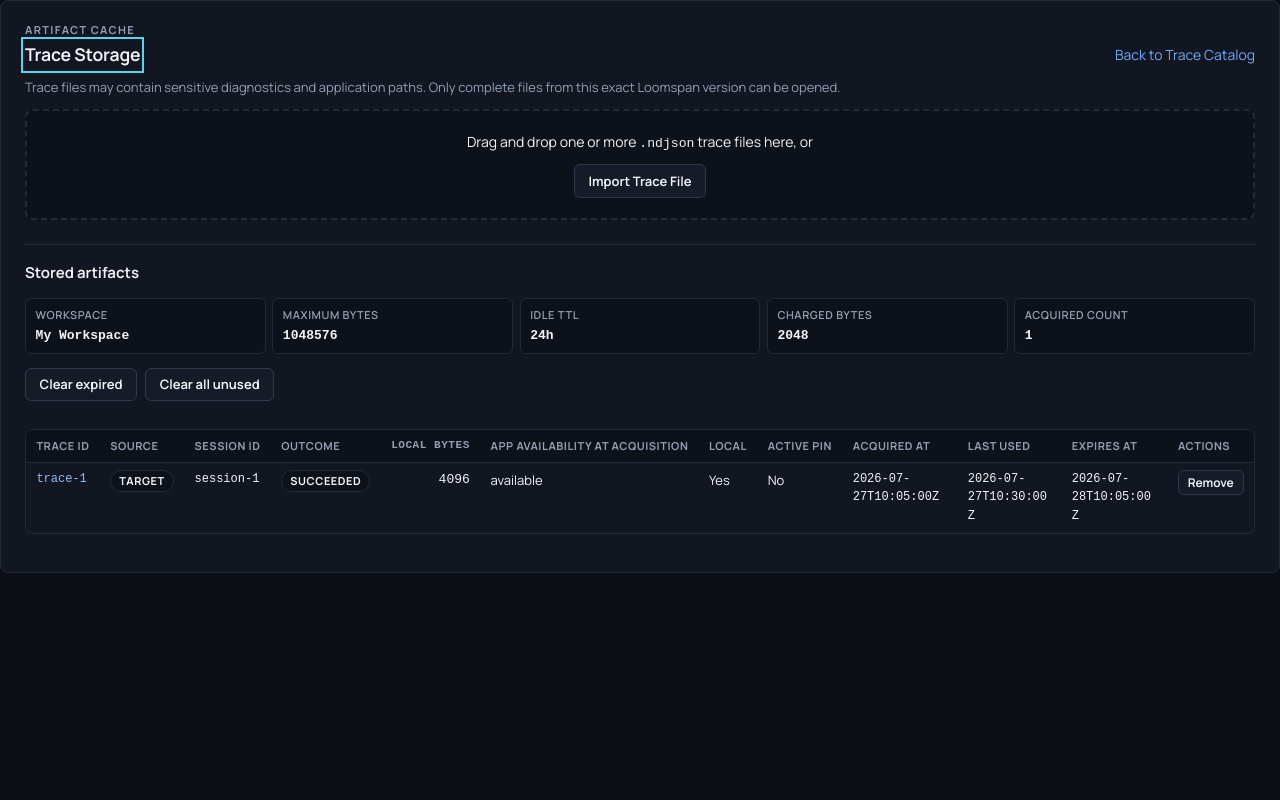
Test case: action error is displayed
The width and height of the screenshot is (1280, 800).
Click the button "Remove".
click(1211, 482)  # box [1178,470,1244,495]
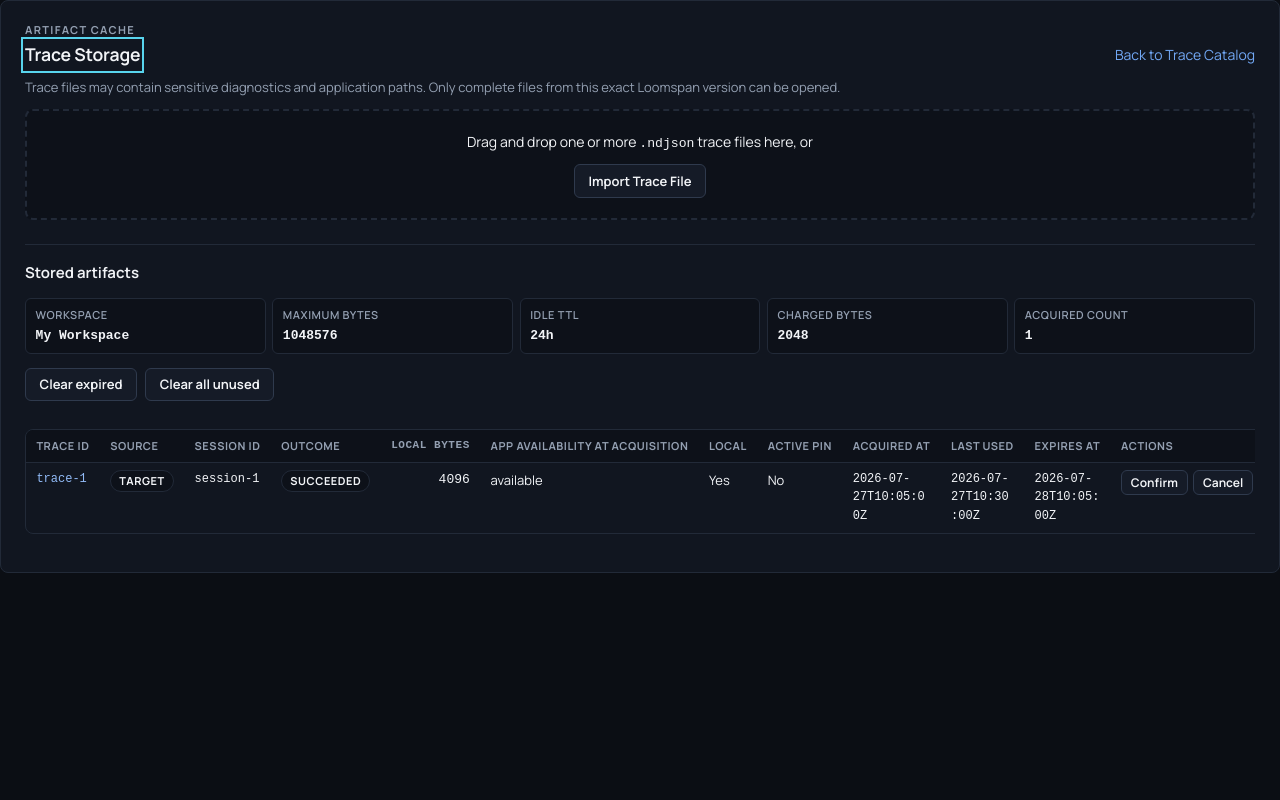
Click the button "Confirm".
click(1154, 482)  # box [1121,470,1188,495]
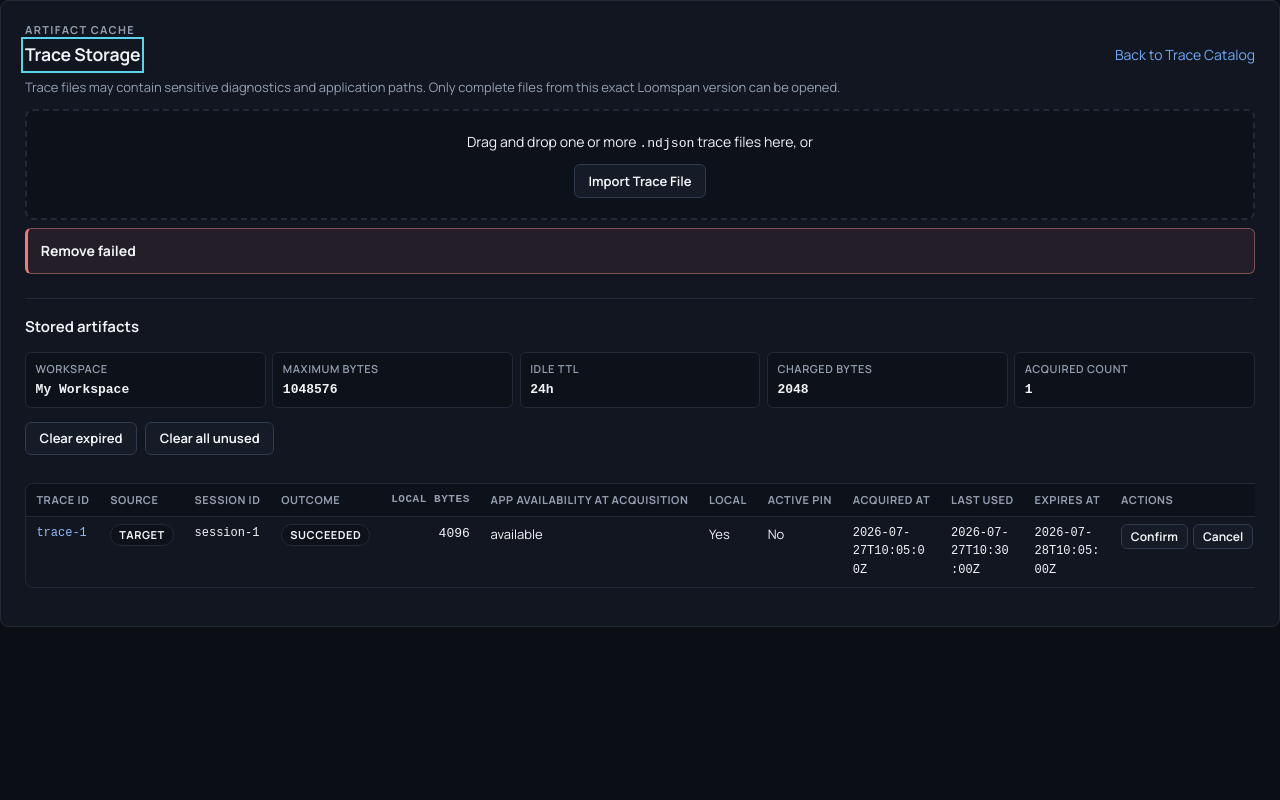
Check: the text "Remove failed" is shown, box [41,241,136,260]
